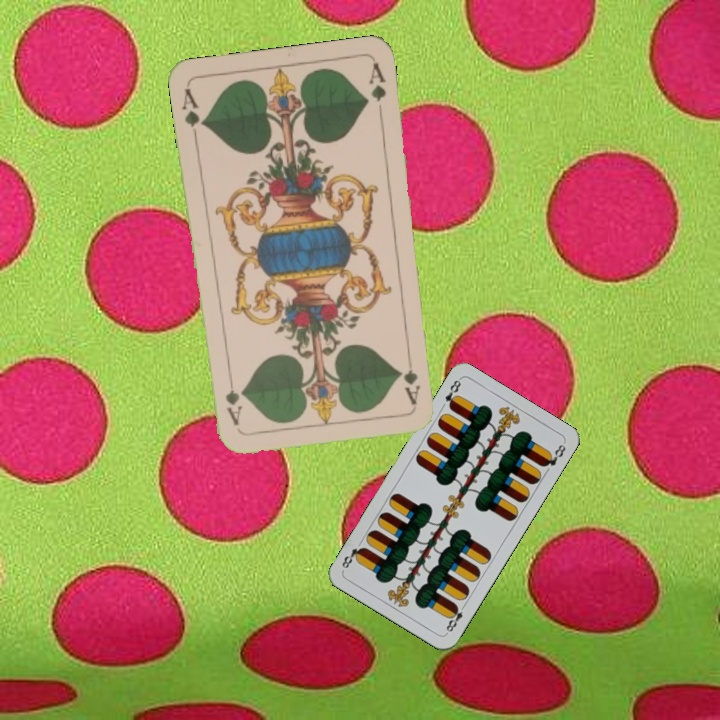E8: (442, 600, 469, 636), (441, 375, 464, 412)
GA: (178, 84, 208, 143), (400, 348, 423, 407)
